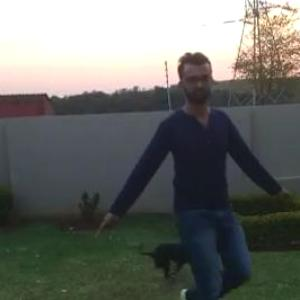land: (105, 75, 289, 299)
